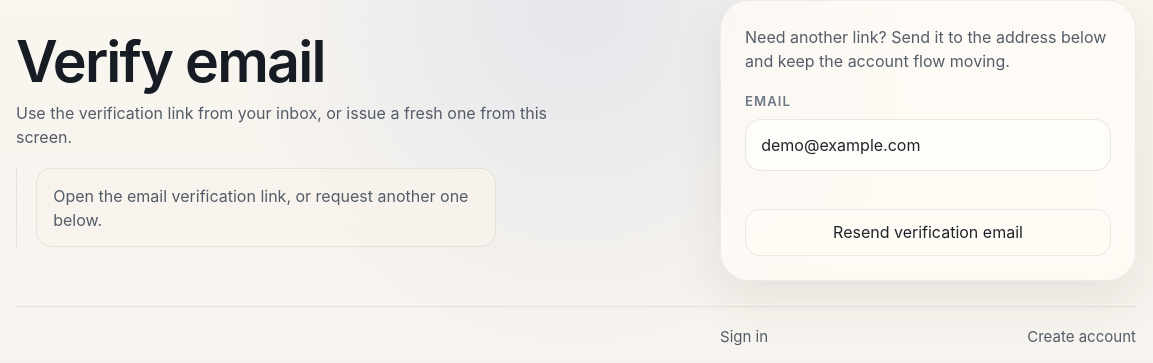
Test case: VerifyEmailPage › shows a resend success message after requesting another verification email
The image size is (1153, 363).
Click the button "Resend verification email": (928, 232) [745,209,1111,256]
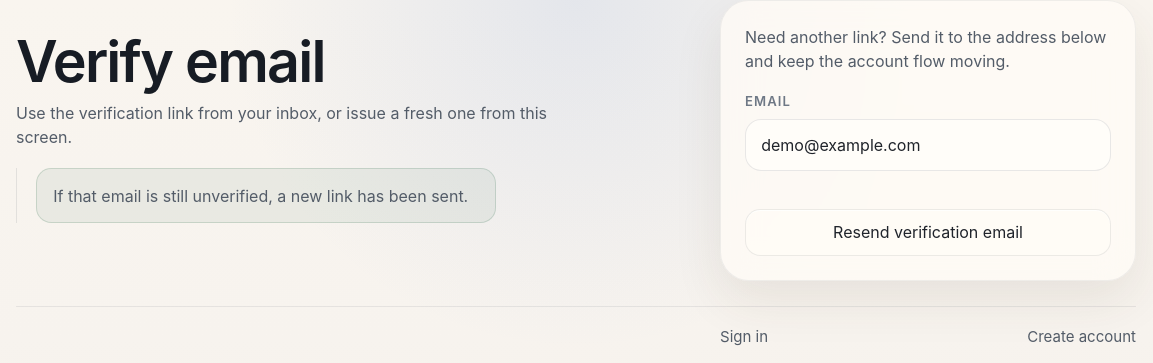
Now the text "If that email is still unverified, a new link has been sent." is shown, box [36,168,496,223]
Now the text "Open the email verification link, or request another one below." is gone
